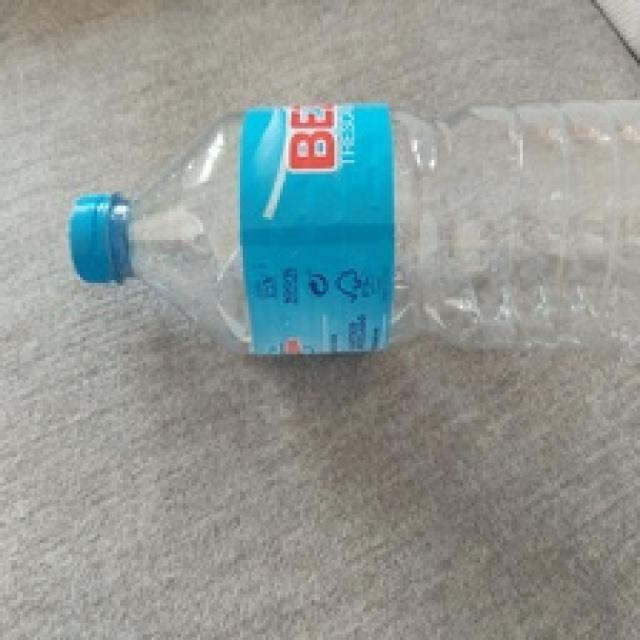good: (66, 86, 640, 394)
